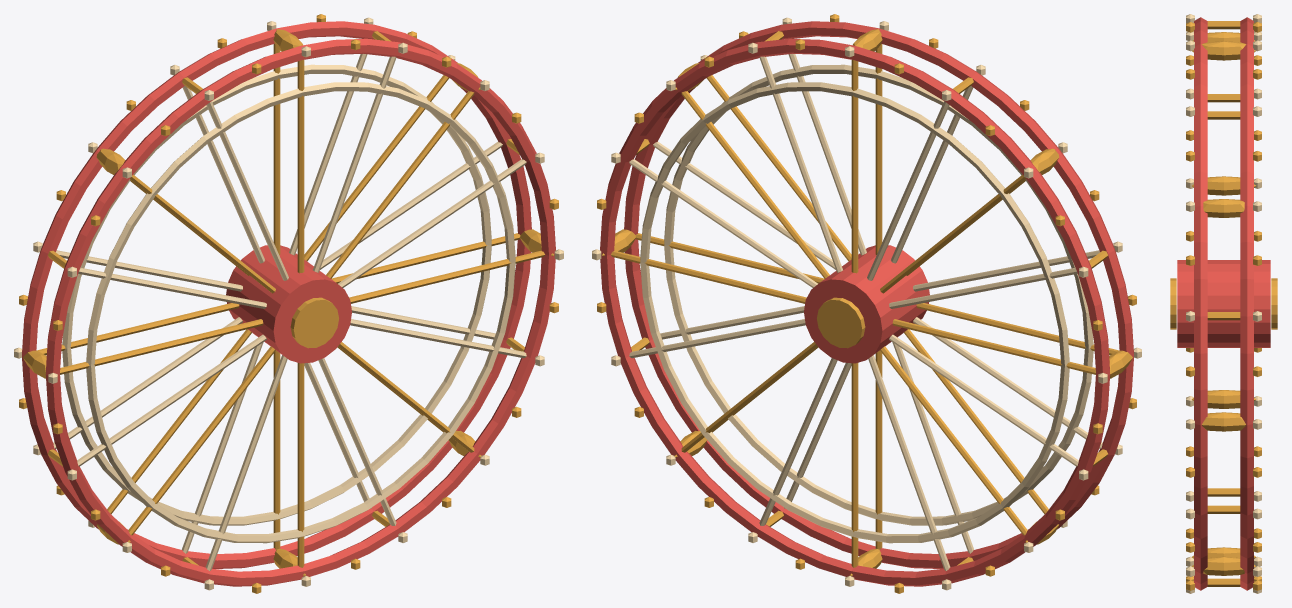
The model's file is ParkParkFerrisWheel.obj.
The picture shows the model from 3 angles, left to right: view 1: azimuth 30°, elevation 25°; view 2: azimuth 150°, elevation 25°; view 3: azimuth 270°, elevation 25°; orthographic projection. The views are drawn at different scales.
Parts seen in each view (by area): view 1: ParkParkFerrisWheel; view 2: ParkParkFerrisWheel; view 3: ParkParkFerrisWheel.
Part boxes in pixels (box(x1,y1,x2,y2)): ParkParkFerrisWheel: box(14, 14, 563, 593); ParkParkFerrisWheel: box(592, 14, 1141, 593); ParkParkFerrisWheel: box(1170, 14, 1277, 593).
Bounding box in the file's own units: 12.47 × 12.5 × 2.3.
